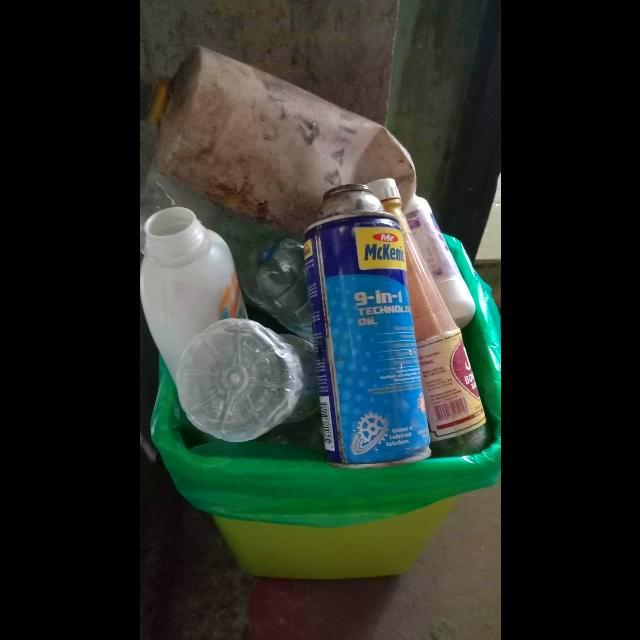glass_bottle: (363, 179, 491, 459)
plastic_bottle: (173, 318, 320, 445)
plastic_container: (139, 206, 246, 382), (405, 195, 475, 330)
